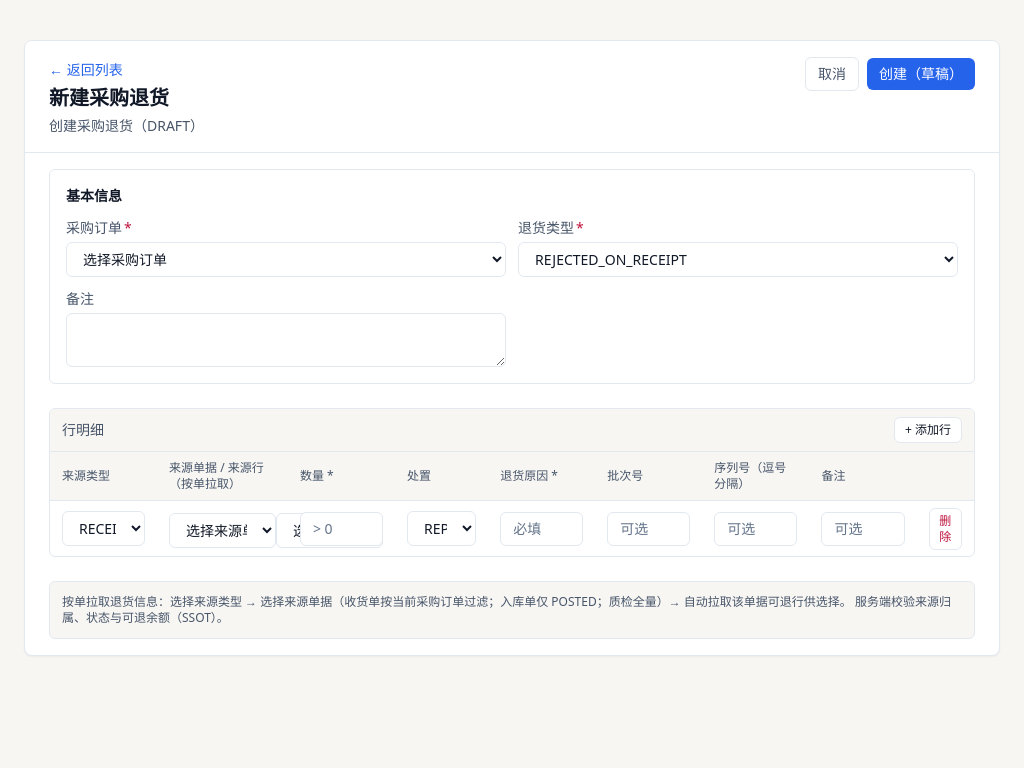
Test: Purchase Return Create (ui-08) — 按单拉取来源行 + POST 契约 › 未选 PO 提交 → 校验错误（purchaseOrderId 必填）
Expected: the heading "新建采购退货" is shown, [49, 84, 169, 111]
What coordinates should you click on to do the following:
click the button "创建（草稿）"
I would click on:
 (921, 74)
Its box is [867, 58, 975, 90].
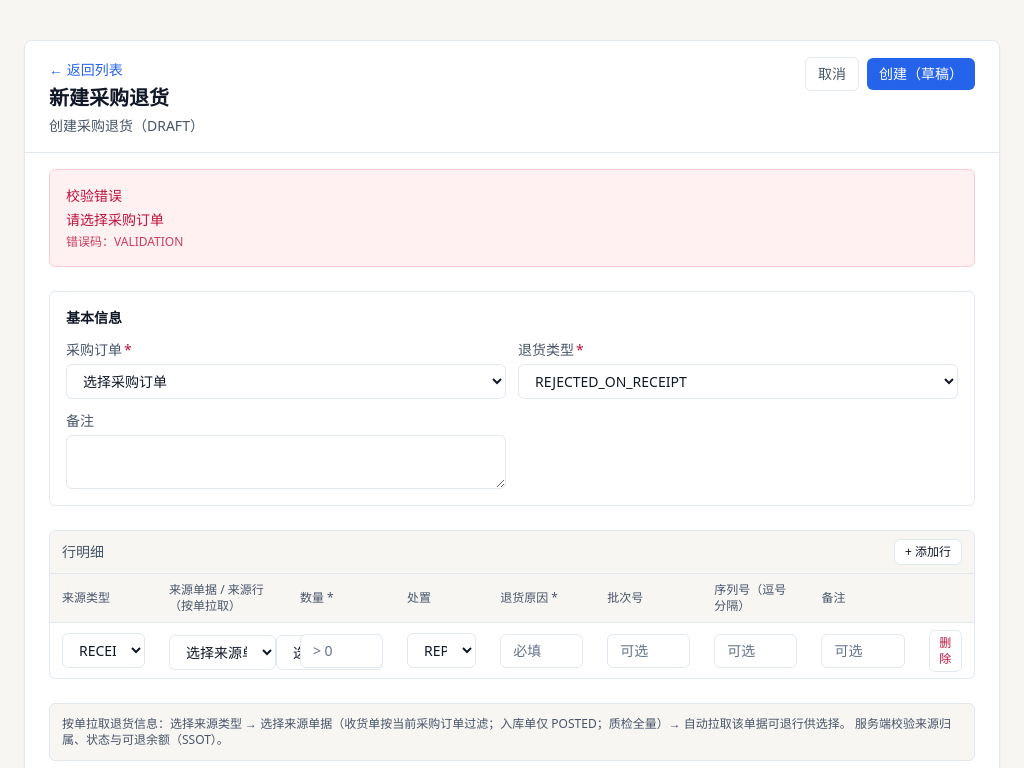
Expected: the message "校验错误 请选择采购订单 错误码：VALIDATION" is shown, [49, 169, 975, 267]
Expected: the text "请选择采购订单" is shown, [66, 210, 164, 229]
